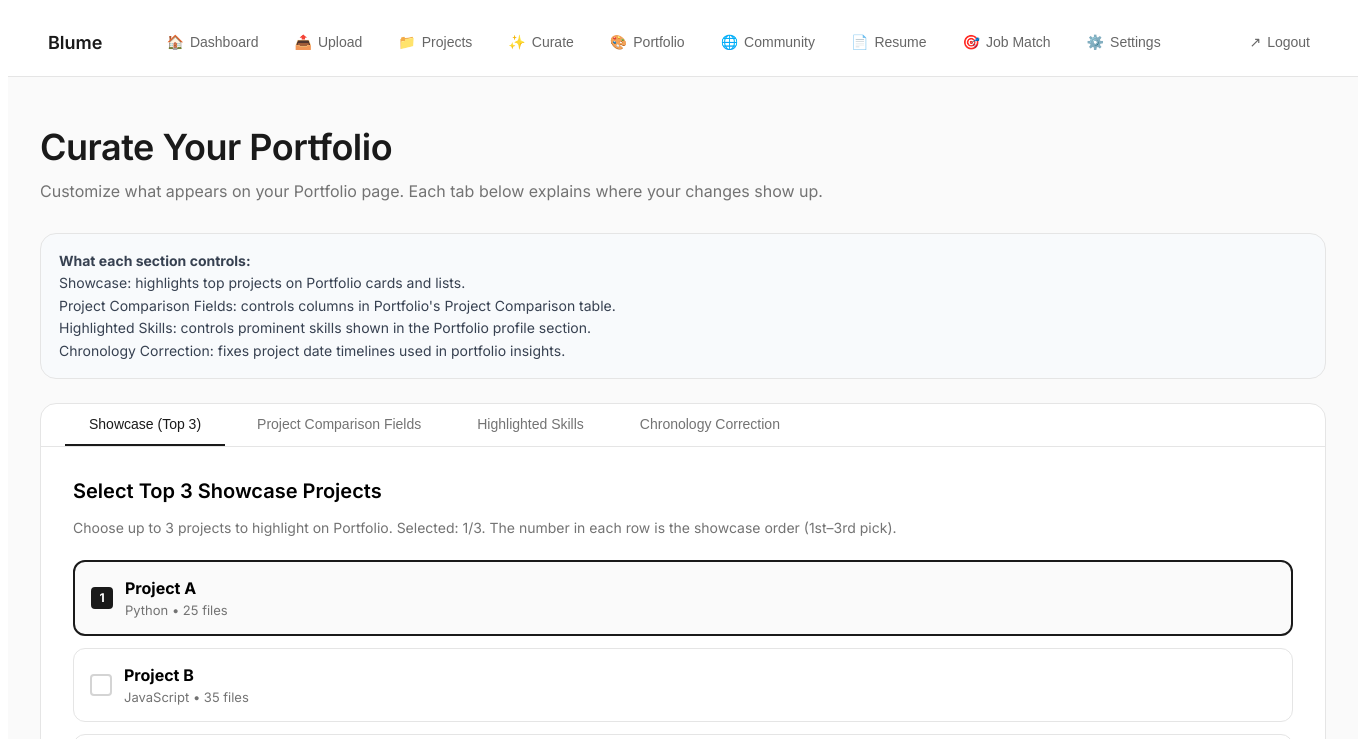
Test: CuratePage › Tab Navigation › switches to chronology tab when clicked
Click the button "Chronology Correction": click(710, 425) x1=616 y1=404 x2=804 y2=446
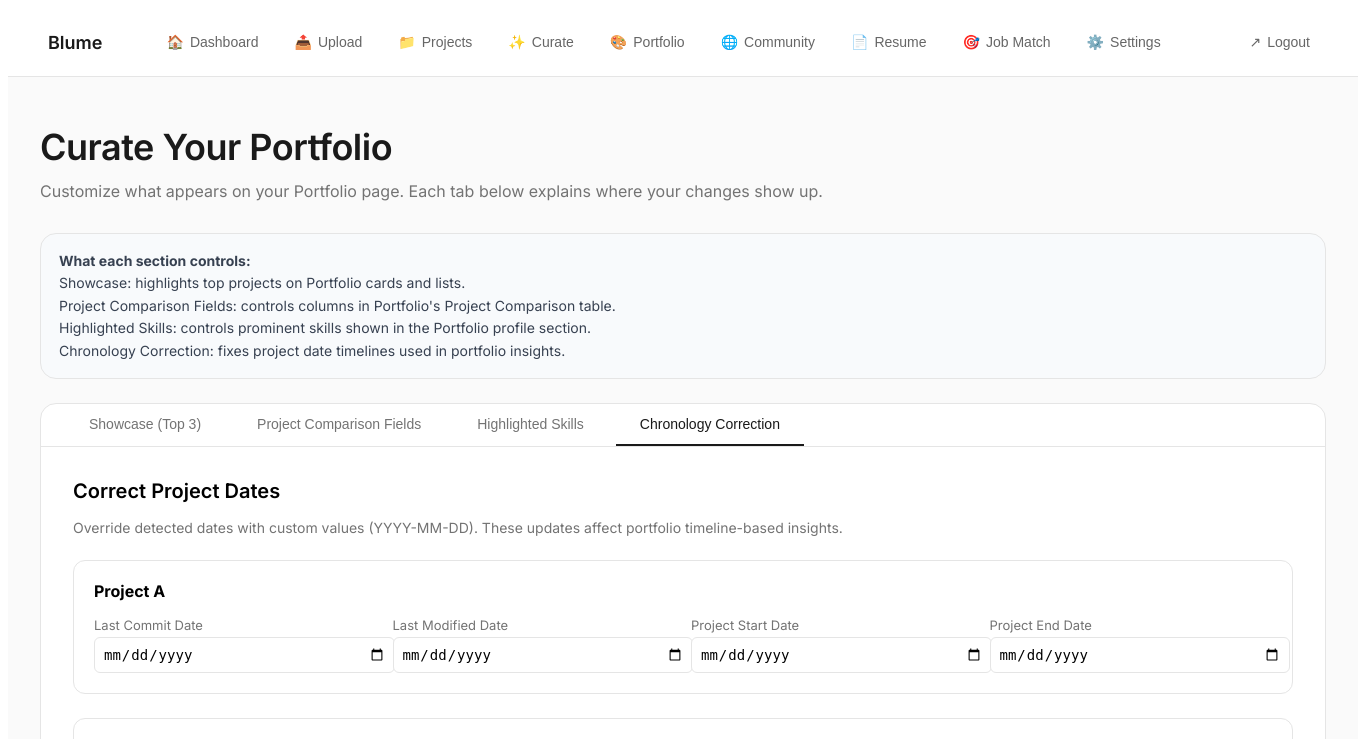
Check: the heading "Correct Project Dates" is shown, box x1=73 y1=479 x2=280 y2=503
